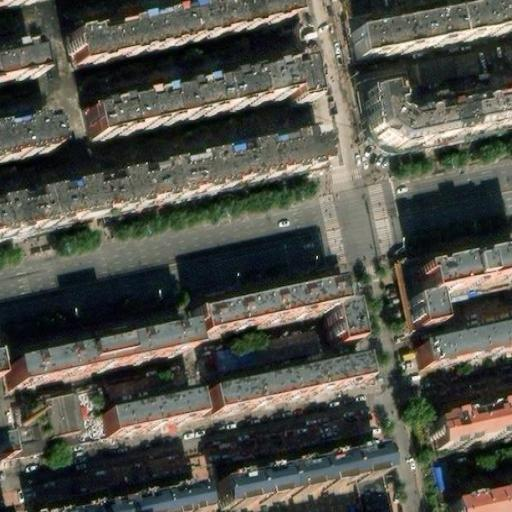building: (78, 60, 281, 135), (61, 0, 287, 65), (340, 0, 512, 56), (208, 426, 378, 480), (204, 355, 359, 413), (72, 151, 207, 215), (189, 279, 336, 336), (0, 299, 177, 346), (199, 125, 327, 187), (28, 464, 186, 512), (212, 459, 315, 512), (209, 329, 321, 377), (409, 316, 512, 361), (97, 389, 195, 436), (428, 391, 512, 444), (307, 443, 384, 492), (108, 480, 200, 512), (410, 49, 482, 89), (0, 113, 59, 158), (44, 390, 87, 438), (446, 484, 512, 512), (274, 55, 306, 103), (0, 37, 38, 76), (353, 75, 401, 101), (396, 258, 422, 304), (331, 277, 353, 324), (404, 301, 434, 332), (49, 499, 110, 512), (190, 389, 210, 416)
